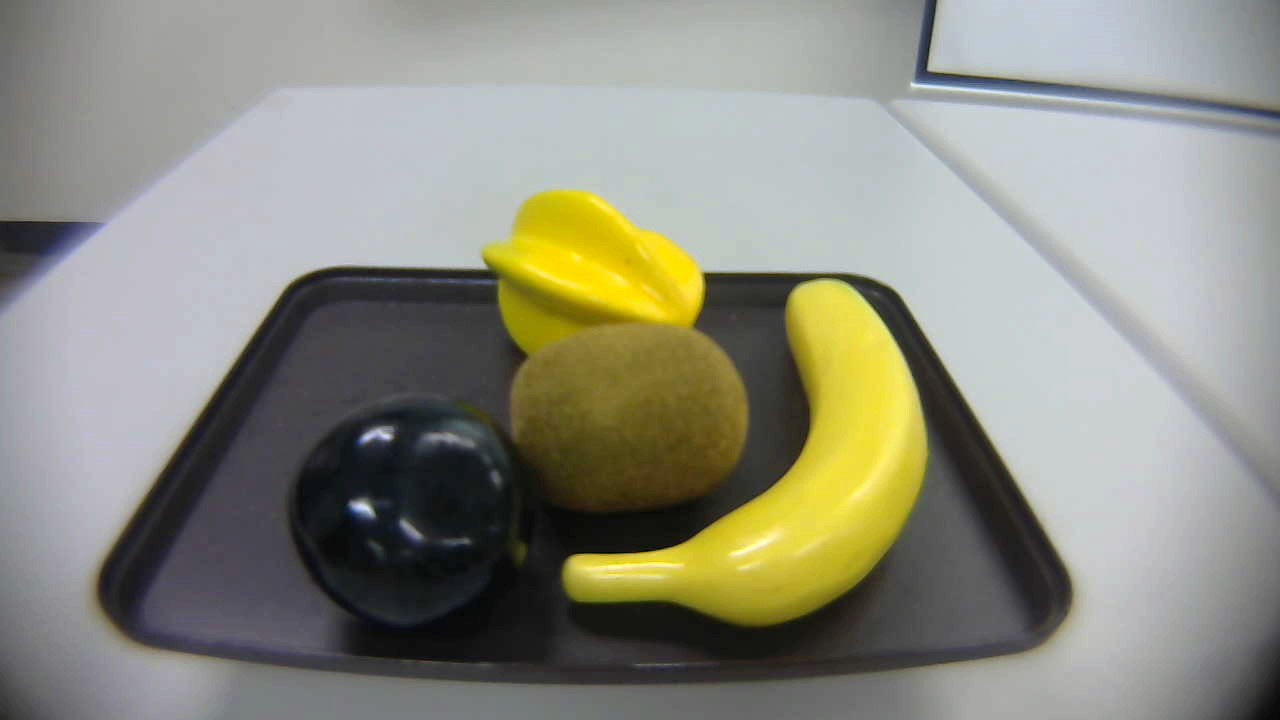banana: (560, 274, 927, 641)
kiwi fruit: (483, 316, 752, 514)
mangosteen: (279, 393, 537, 627)
star fruit: (477, 188, 722, 373)
